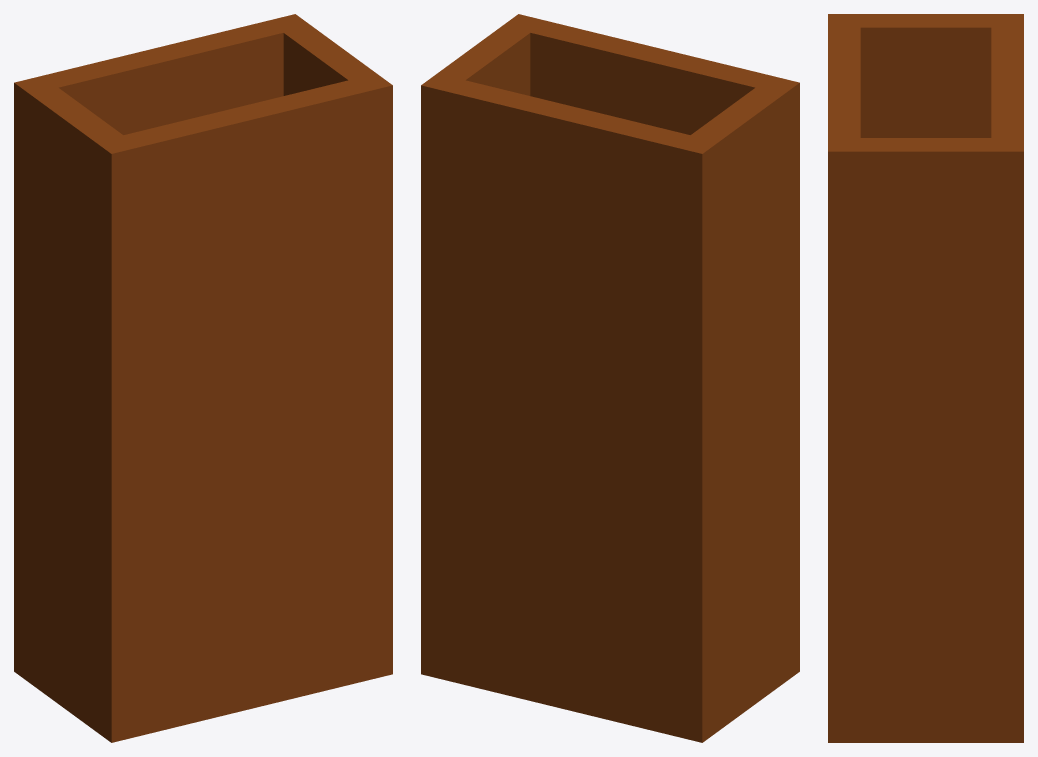
File: chimney_base.fbx
The picture shows the model from 3 angles, left to right: view 1: azimuth 30°, elevation 25°; view 2: azimuth 150°, elevation 25°; view 3: azimuth 270°, elevation 25°; orthographic projection.
Parts seen in each view (by area): view 1: Mesh1_Chimney4_1 Model; view 2: Mesh1_Chimney4_1 Model; view 3: Mesh1_Chimney4_1 Model.
Boxes of the visible parts, x1,y1,x2,y2 form: Mesh1_Chimney4_1 Model: (14, 14, 392, 742); Mesh1_Chimney4_1 Model: (421, 14, 799, 742); Mesh1_Chimney4_1 Model: (828, 14, 1023, 742).
Bounding box in the file's own units: 0.5 × 1 × 0.3.
